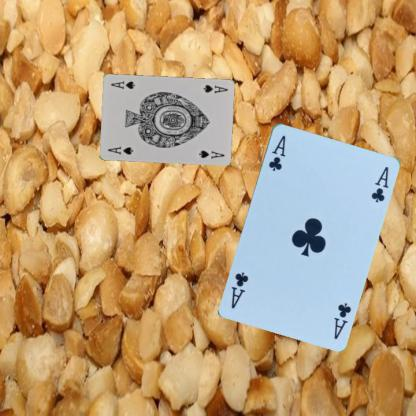Ac: (331, 300, 353, 340), (266, 132, 286, 172)
As: (105, 144, 134, 156), (200, 82, 229, 94)
